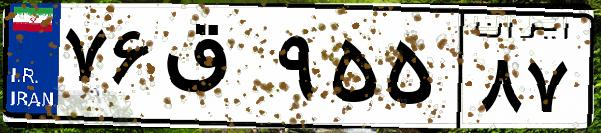5: (385, 28, 445, 110), (330, 28, 385, 110)
6: (110, 28, 158, 98)
7: (57, 26, 110, 100), (525, 38, 570, 115)
8: (475, 38, 525, 113)
9: (270, 28, 330, 110)
ق: (158, 20, 270, 120)
